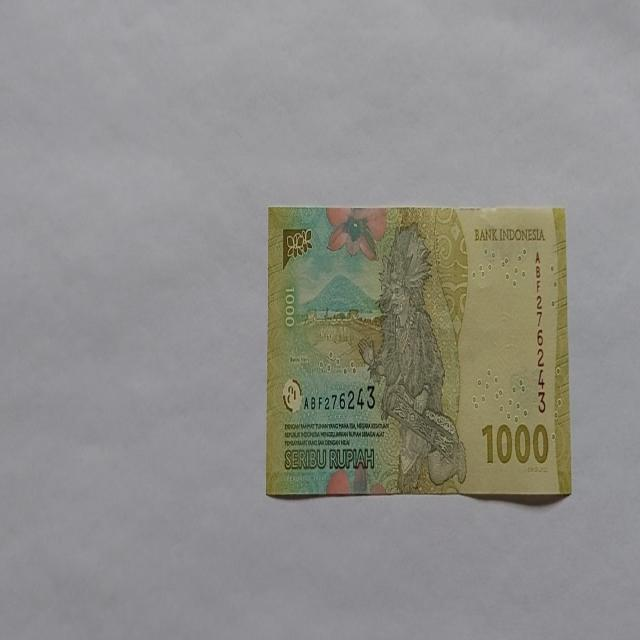seribu rupiah kertas: (265, 204, 571, 498)
